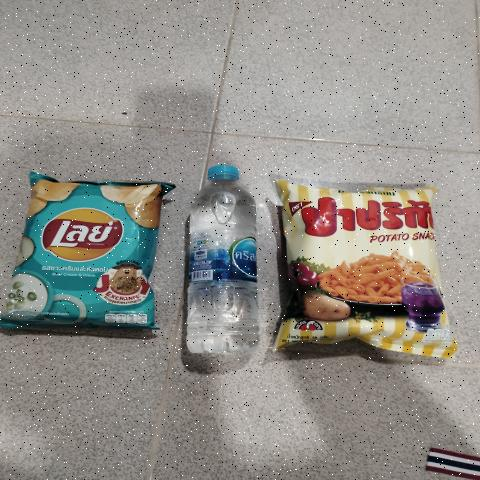crystal: (190, 160, 262, 375)
lay_blue: (29, 180, 150, 328)
paprika: (287, 191, 435, 349)
